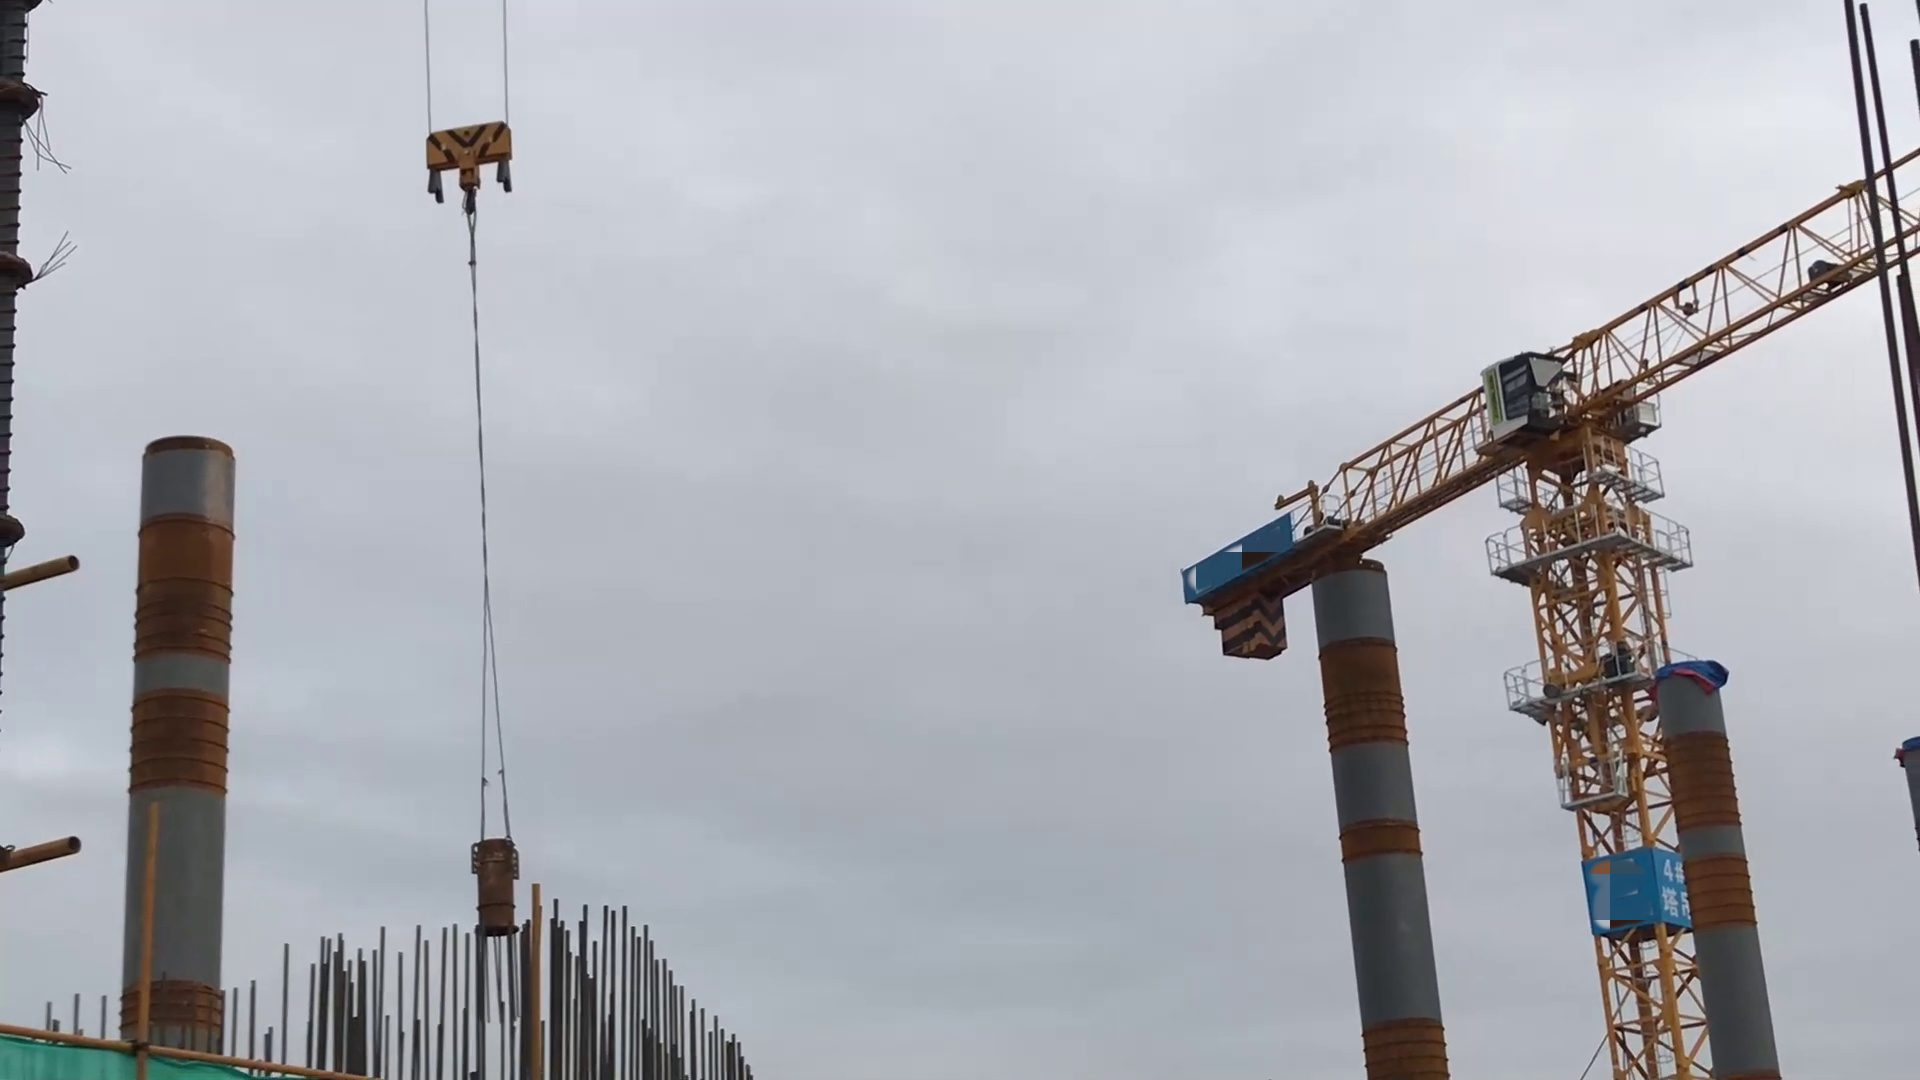hook: (427, 127, 512, 191)
